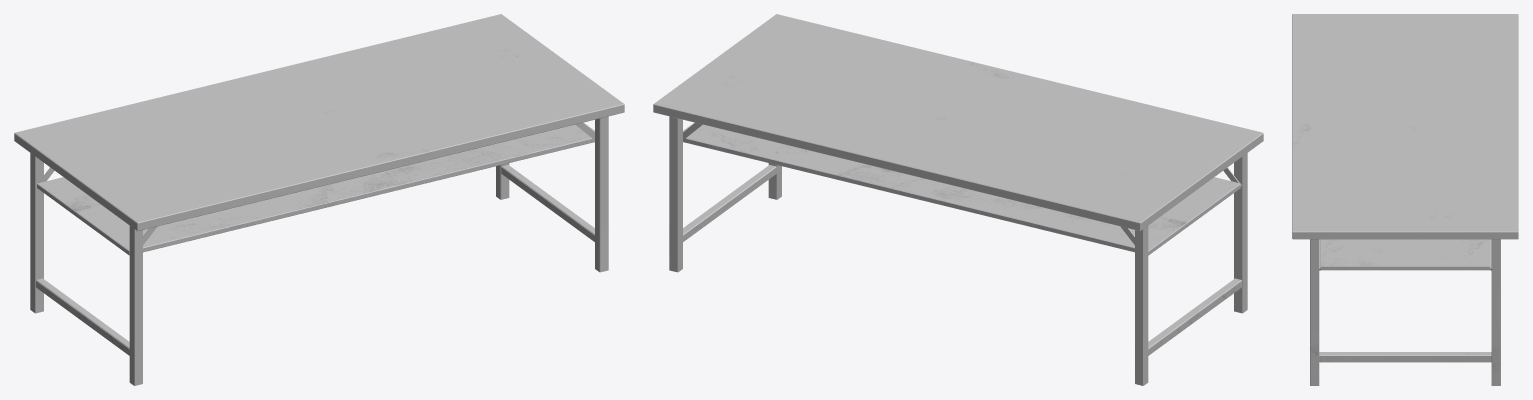
3 views of the same model, side by side, from view 1: azimuth 30°, elevation 25°; view 2: azimuth 150°, elevation 25°; view 3: azimuth 270°, elevation 25° (orthographic). The views are drawn at different scales.
Parts seen in each view (by area): view 1: SteelTable; view 2: SteelTable; view 3: SteelTable.
Part boxes in pixels (x1,y1,x2,y2): SteelTable: (14, 14, 624, 385); SteelTable: (653, 14, 1263, 385); SteelTable: (1292, 14, 1518, 385).
Bounding box in the file's own units: 2.37 × 0.7984 × 1.04.
Materials: 1 (1 with a texture image).
